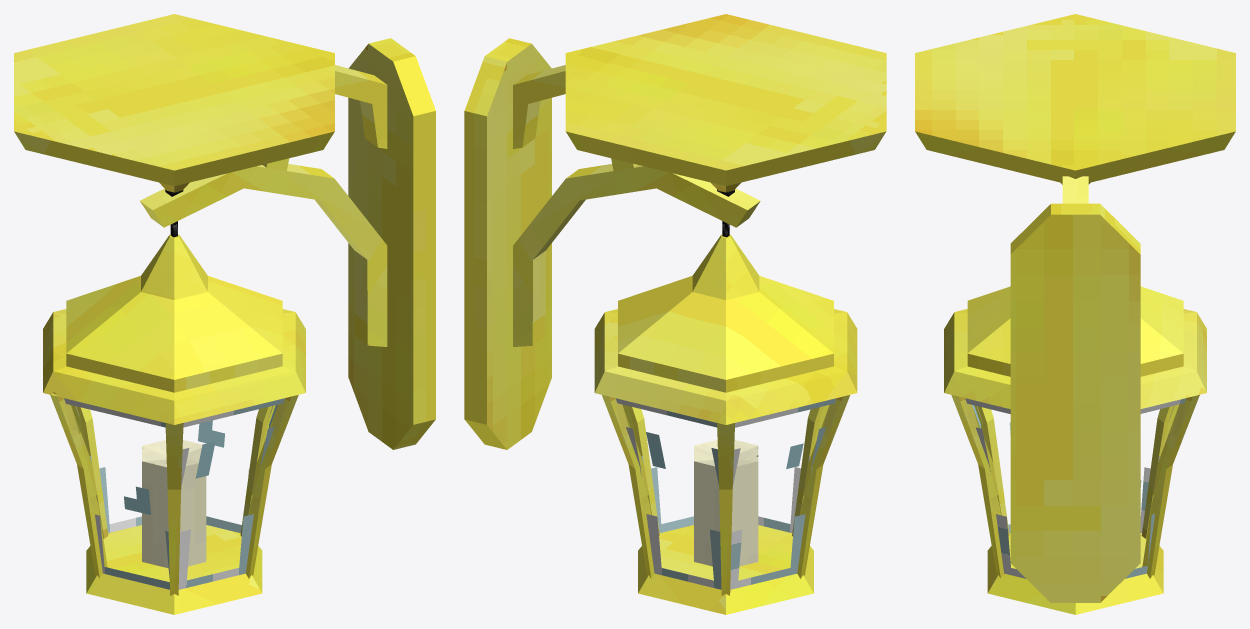
Rendered from lantern.obj.
3 views of the same model, side by side, from view 1: azimuth 30°, elevation 25°; view 2: azimuth 150°, elevation 25°; view 3: azimuth 270°, elevation 25° (orthographic).
Visible parts, largest first — view 1: lamp, topPlate, wallPlate, glass, candle; view 2: lamp, topPlate, wallPlate, glass, candle; view 3: wallPlate, topPlate, lamp, glass.
Boxes of the visible parts, left/top/right/bottom form: lamp: left=43, top=234, right=305, bottom=614; topPlate: left=14, top=14, right=334, bottom=196; wallPlate: left=140, top=38, right=435, bottom=449; glass: left=64, top=398, right=284, bottom=589; candle: left=142, top=440, right=206, bottom=568; lamp: left=594, top=234, right=857, bottom=614; topPlate: left=565, top=14, right=886, bottom=196; wallPlate: left=464, top=38, right=760, bottom=449; glass: left=616, top=398, right=836, bottom=589; candle: left=694, top=440, right=758, bottom=566; wallPlate: left=1010, top=176, right=1140, bottom=602; topPlate: left=915, top=14, right=1235, bottom=184; lamp: left=944, top=286, right=1206, bottom=614; glass: left=965, top=398, right=1185, bottom=578.
Size of the model in its own units: 0.8495 by 1 by 0.6062.
